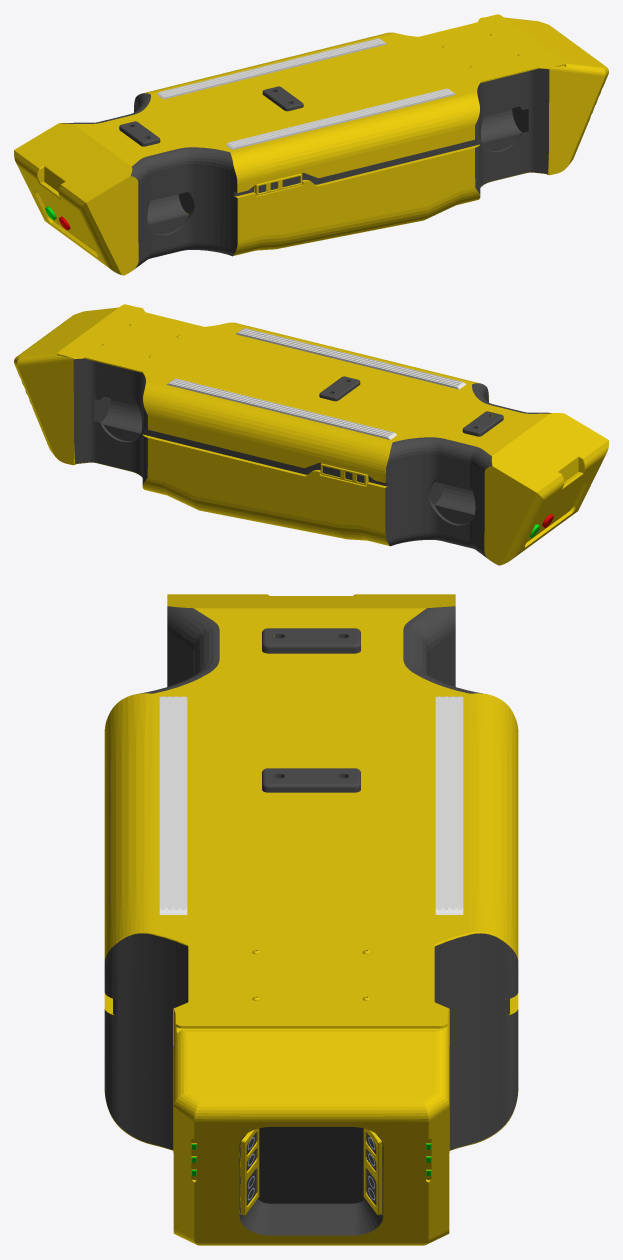
Rendered from body.dae.
The picture shows the model from 3 angles, top to bottom: view 1: azimuth 30°, elevation 25°; view 2: azimuth 150°, elevation 25°; view 3: azimuth 270°, elevation 25°; orthographic projection. The views are drawn at different scales.
Parts seen in each view (by area): view 1: Body; view 2: Body; view 3: Body.
Part boxes in pixels (x1,y1,x2,y2): Body: (14,14,608,275); Body: (14,304,608,565); Body: (104,594,518,1245).
Bounding box in the file's own units: 0.8907 × 0.3 × 0.1864.
